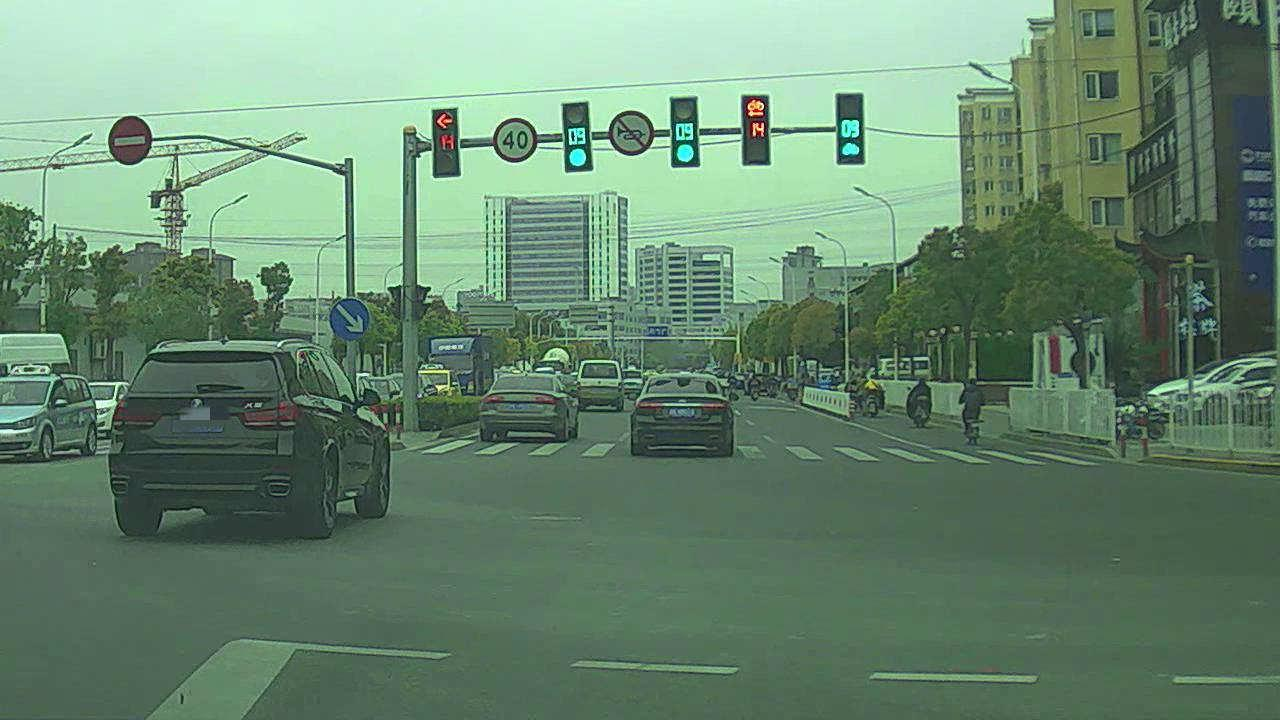traffic_light: (739, 94, 772, 168), (560, 100, 593, 171), (430, 107, 460, 181), (669, 95, 699, 163), (837, 96, 865, 166)
